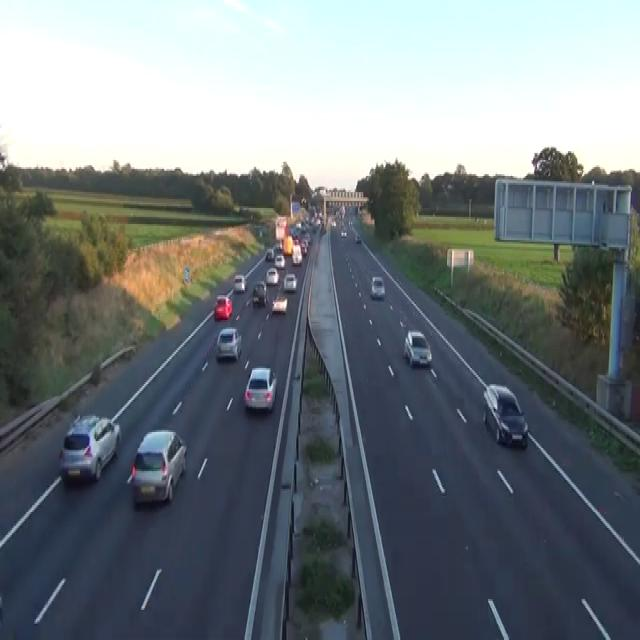Car: (126, 428, 187, 505), (58, 412, 121, 483), (482, 384, 528, 448), (244, 366, 277, 411), (403, 329, 432, 368), (215, 325, 241, 361), (213, 295, 232, 320), (252, 279, 267, 306), (370, 276, 385, 298), (271, 293, 287, 313), (283, 272, 297, 292), (233, 274, 247, 292), (265, 266, 278, 284), (90, 363, 101, 384), (291, 245, 302, 265), (274, 252, 285, 268), (300, 240, 308, 256), (265, 247, 274, 261), (272, 244, 281, 256), (399, 315, 407, 327), (292, 237, 300, 246), (300, 196, 306, 206), (340, 228, 347, 236), (355, 233, 361, 242), (321, 224, 326, 233), (331, 218, 336, 226), (348, 218, 353, 226), (259, 228, 262, 236)
